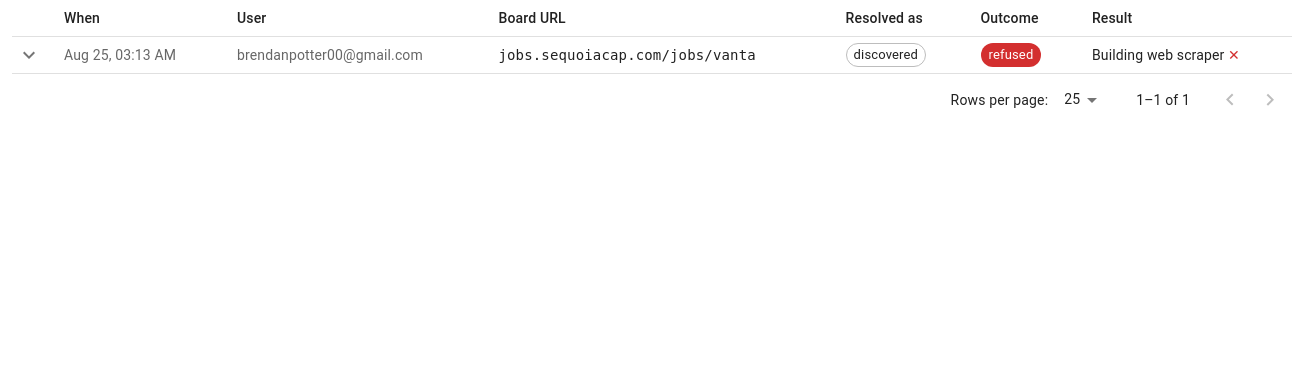
it: AddAttemptsTable › degrades to the URL and the split error_detail when the company row was deleted
This screenshot has width=1304, height=392.
Click the button named "Expand attempt" at x=29, y=55, box [12,38,46,72]
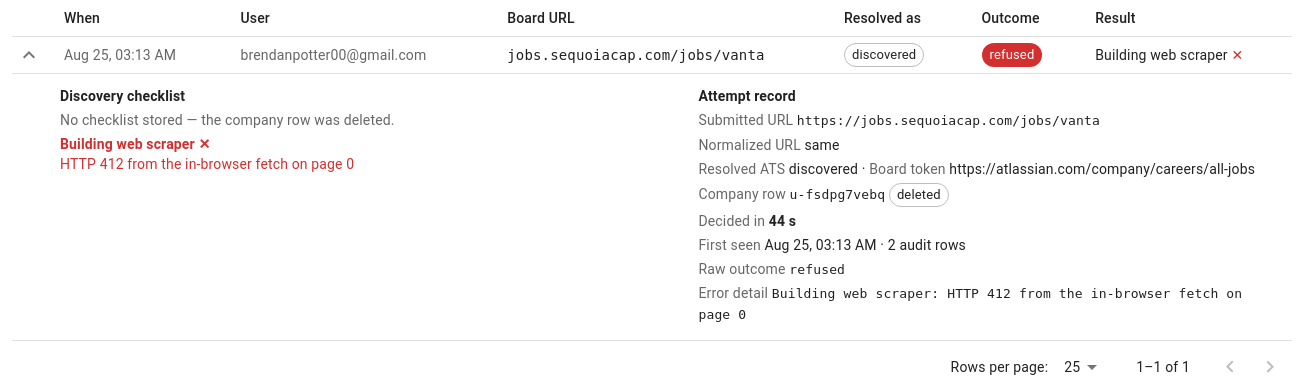
Expected: the text "jobs.sequoiacap.com/jobs/vanta" is shown, [491,36,828,74]
Result: the text "No checklist stored — the company row was deleted." is shown at [60,112,395,128]
Result: the text "HTTP 412 from the in-browser fetch on page 0" is shown at [60,156,354,172]
